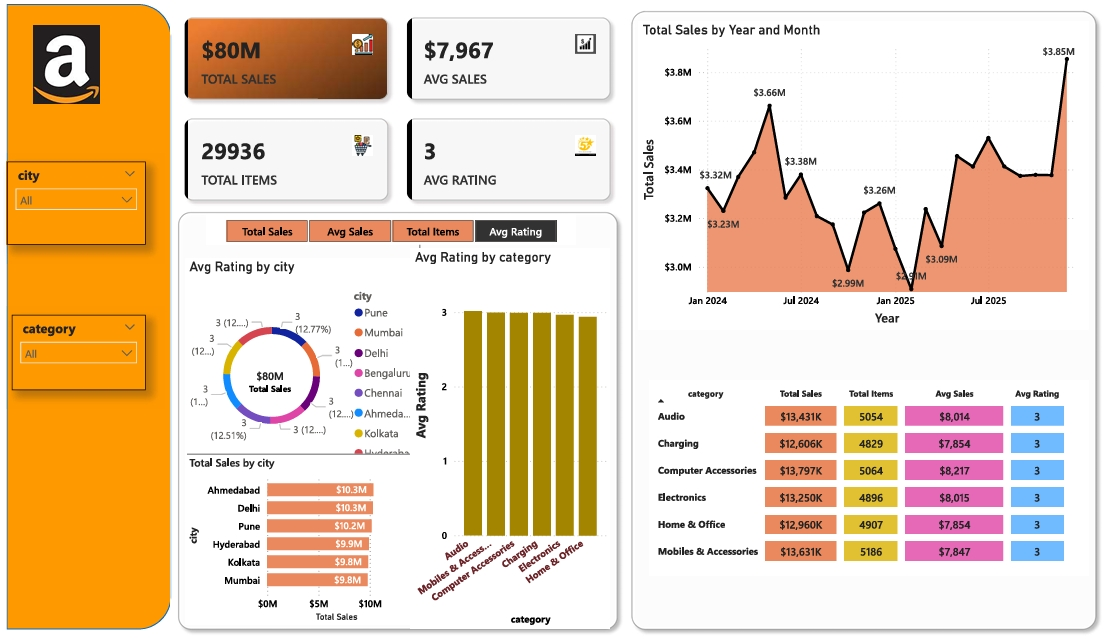

The dashboard page shown, as its layout file describes it:
{"tool":"powerbi","page":{"name":"Page 1","canvas":[1400,800],"ordinal":0},"visuals":[{"type":"shape","box":[19.4,5.3,206.8,786.5],"z":0},{"type":"cardVisual","fields":{"Data":["amazon_sales_dataset.Total Sales","amazon_sales_dataset.Avg Sales","amazon_sales_dataset.Total Items","amazon_sales_dataset.Avg Rating"]},"box":[226.2,5.3,570.9,265.1],"z":1000},{"type":"shape","box":[226.2,258,570.9,542.6],"z":2000},{"type":"donutChart","fields":{"Y":["amazon_sales_dataset.Avg Rating"],"Category":["amazon_sales_dataset.city"]},"box":[243.9,325.2,305.8,275.7],"z":3000},{"type":"slicer","fields":{"Values":["Metrics 3.Metrics"]},"box":[270.4,270.4,464.8,37.1],"z":4000},{"type":"cardVisual","fields":{"Data":["amazon_sales_dataset.Total Sales"]},"box":[304,443.6,93.7,70.7],"z":5000},{"type":"clusteredBarChart","fields":{"Category":["amazon_sales_dataset.city"],"Y":["amazon_sales_dataset.Total Sales"]},"box":[243.9,572.6,305.8,213.8],"z":6000},{"type":"shape","box":[245.7,553.2,281,37.1],"z":7000},{"type":"shape","box":[528.4,307.5,21.2,479],"z":8000},{"type":"clusteredColumnChart","fields":{"Y":["amazon_sales_dataset.Avg Rating"],"Category":["amazon_sales_dataset.category"]},"box":[528.4,312.8,251,479],"z":9000},{"type":"shape","box":[797.1,5.3,602.7,795.3],"z":10000},{"type":"lineChart","fields":{"Y":["amazon_sales_dataset.Total Sales"],"Category":["amazon_sales_dataset.order_date.Variation.Date Hierarchy.Year","amazon_sales_dataset.order_date.Variation.Date Hierarchy.Month"]},"box":[814.7,26.5,567.3,388.8],"z":11000},{"type":"pivotTable","fields":{"Rows":["amazon_sales_dataset.category"],"Values":["amazon_sales_dataset.Total Sales","amazon_sales_dataset.Total Items","amazon_sales_dataset.Avg Sales","amazon_sales_dataset.Avg Rating"]},"box":[828.9,479,553.2,245.7],"z":12000},{"type":"slicer","fields":{"Values":["amazon_sales_dataset.city"]},"box":[19.4,203.2,175,104.3],"z":13000},{"type":"slicer","fields":{"Values":["amazon_sales_dataset.category"]},"box":[24.7,395.9,169.7,95.4],"z":14000},{"type":"image","box":[38.9,26.5,111.3,109.6],"z":15000}]}

Visuals, with their boxes in screenshot pixels (x1, y1, x2, y2), scaled from the page's 1400x800 canvas onto the 1107x641 screenshot:
shape: crop(15, 4, 179, 634)
cardVisual - amazon_sales_dataset.Total Sales x amazon_sales_dataset.Avg Sales: crop(179, 4, 630, 217)
shape: crop(179, 207, 630, 640)
donutChart - amazon_sales_dataset.Avg Rating x amazon_sales_dataset.city: crop(193, 261, 435, 481)
slicer - Metrics 3.Metrics: crop(214, 217, 581, 246)
cardVisual - amazon_sales_dataset.Total Sales: crop(240, 355, 314, 412)
clusteredBarChart - amazon_sales_dataset.city x amazon_sales_dataset.Total Sales: crop(193, 459, 435, 630)
shape: crop(194, 443, 416, 473)
shape: crop(418, 246, 435, 630)
clusteredColumnChart - amazon_sales_dataset.Avg Rating x amazon_sales_dataset.category: crop(418, 251, 616, 634)
shape: crop(630, 4, 1106, 640)
lineChart - amazon_sales_dataset.Total Sales x amazon_sales_dataset.order_date.Variation.Date Hierarchy.Year: crop(644, 21, 1093, 333)
pivotTable - amazon_sales_dataset.category x amazon_sales_dataset.Total Sales: crop(655, 384, 1093, 581)
slicer - amazon_sales_dataset.city: crop(15, 163, 154, 246)
slicer - amazon_sales_dataset.category: crop(20, 317, 154, 394)
image: crop(31, 21, 119, 109)
